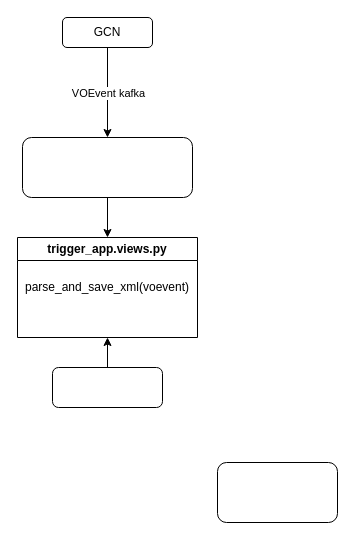
Image size: 355x540. Some labels were removed from this diagram. The shapes that lost their labels are listed below. From the top down, each one's centre as x and y in pixels, then its label:
At point (107, 167): "Management/commands/ kafka-gcn.py".
At point (107, 387): "Model.Event".
